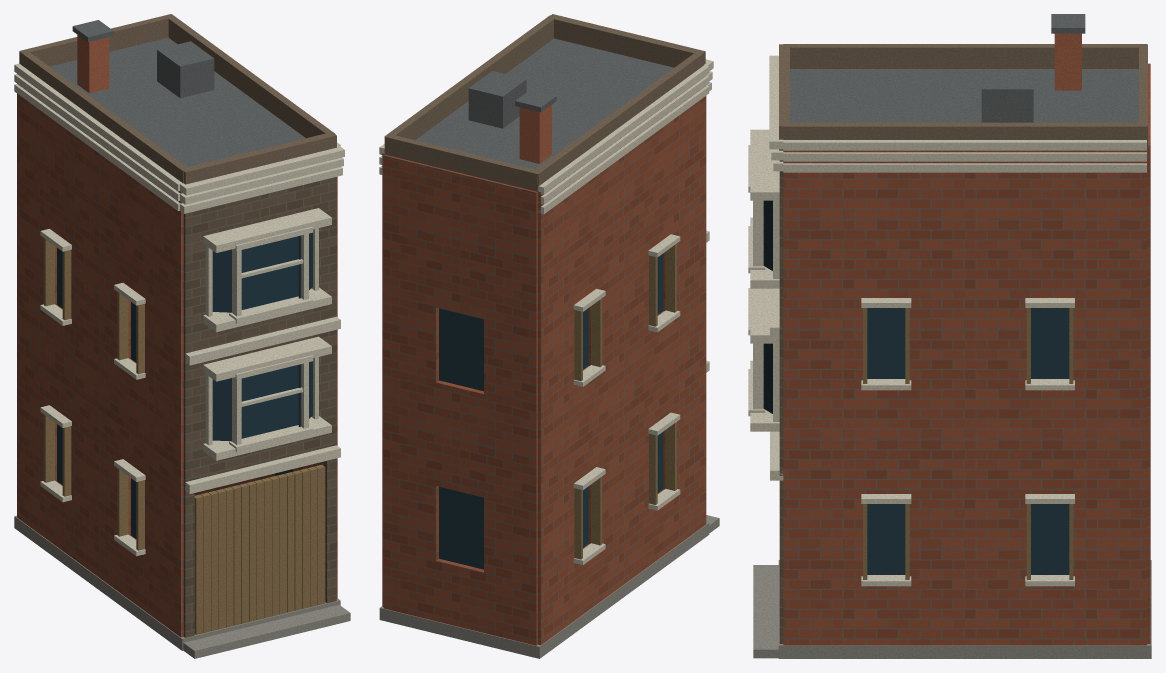
File: VICT21_lod2.glb
3 renders of one model, left to right at view 1: azimuth 30°, elevation 25°; view 2: azimuth 150°, elevation 25°; view 3: azimuth 270°, elevation 25°, orthographic. The views are drawn at different scales.
Visible parts, largest first — view 1: VICT21_LOD2; view 2: VICT21_LOD2; view 3: VICT21_LOD2.
Part boxes in pixels (left/top/right/bottom): VICT21_LOD2: left=14, top=14, right=350, bottom=658; VICT21_LOD2: left=379, top=14, right=719, bottom=658; VICT21_LOD2: left=748, top=14, right=1151, bottom=658.
Size of the model in its own units: 3.71 by 10.45 by 6.65.
Materials: 10 (8 with a texture image).
